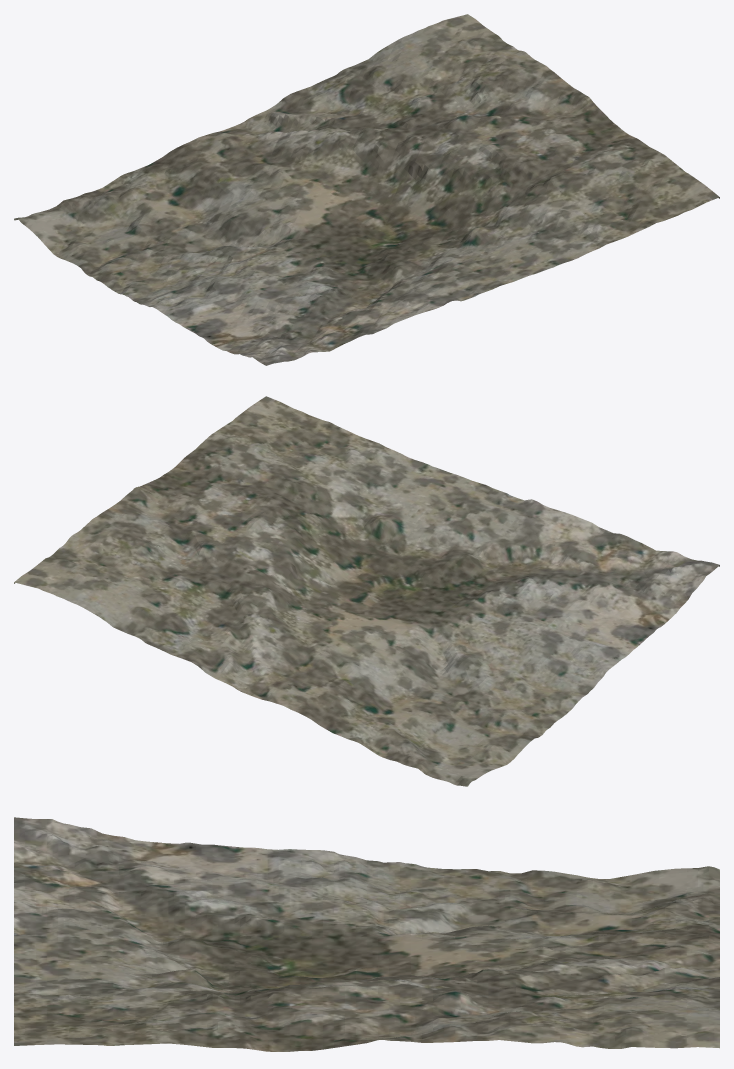
The picture shows the model from 3 angles, top to bottom: view 1: azimuth 30°, elevation 25°; view 2: azimuth 150°, elevation 25°; view 3: azimuth 270°, elevation 25°; orthographic projection. The views are drawn at different scales.
Size of the model in its own units: 250 by 57.05 by 241.
Materials: 1 (1 with a texture image).
